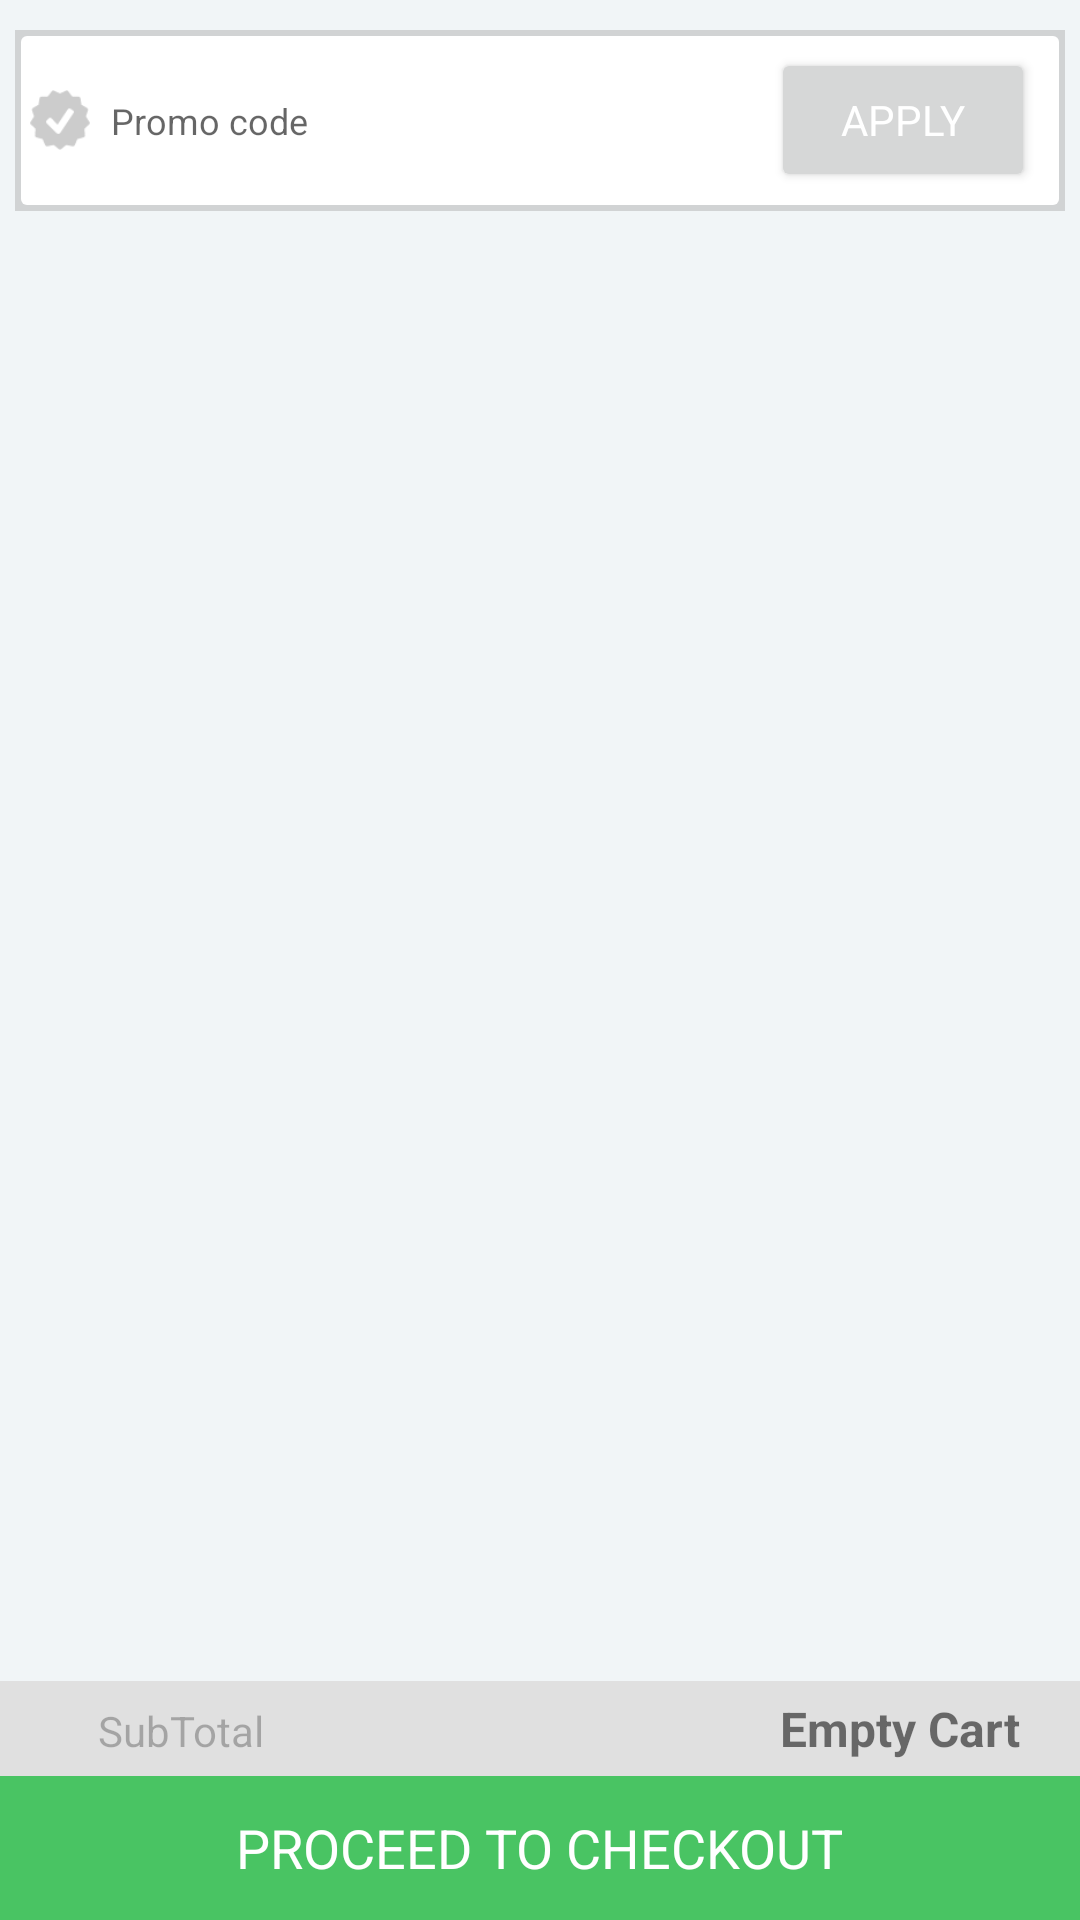

Named icons in this screenshot (1080 × 1920) and their bounding boxes, (x1, y1, x2, y2):
approve: (30, 90, 90, 149)
